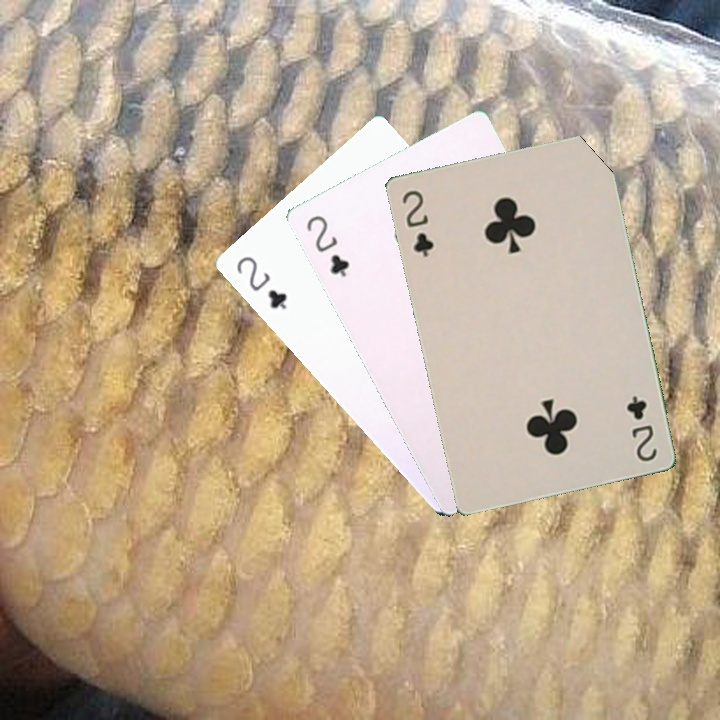2c: (232, 251, 290, 313), (302, 211, 352, 280), (398, 186, 436, 260), (622, 391, 660, 464)
